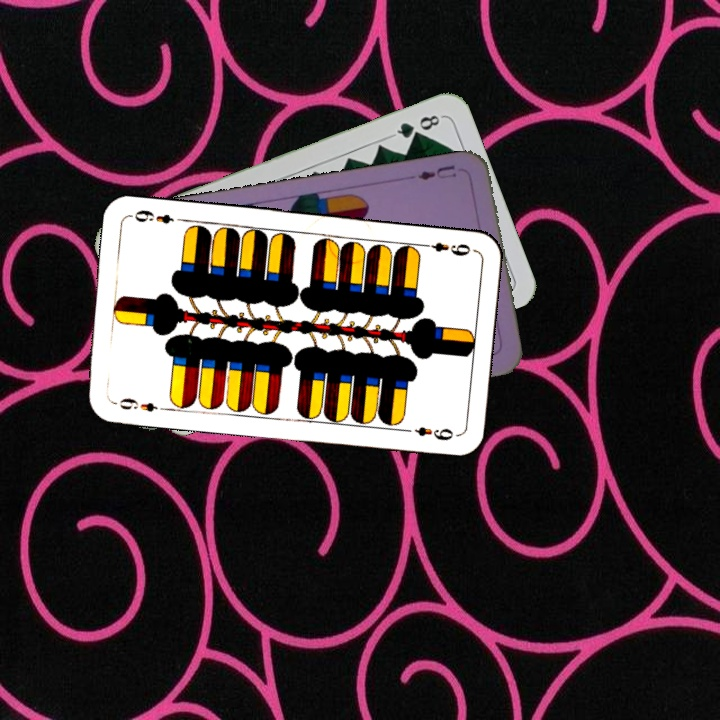E9: (417, 238, 473, 258), (116, 393, 169, 414)
EU: (413, 161, 459, 183)
G8: (388, 110, 445, 141)
